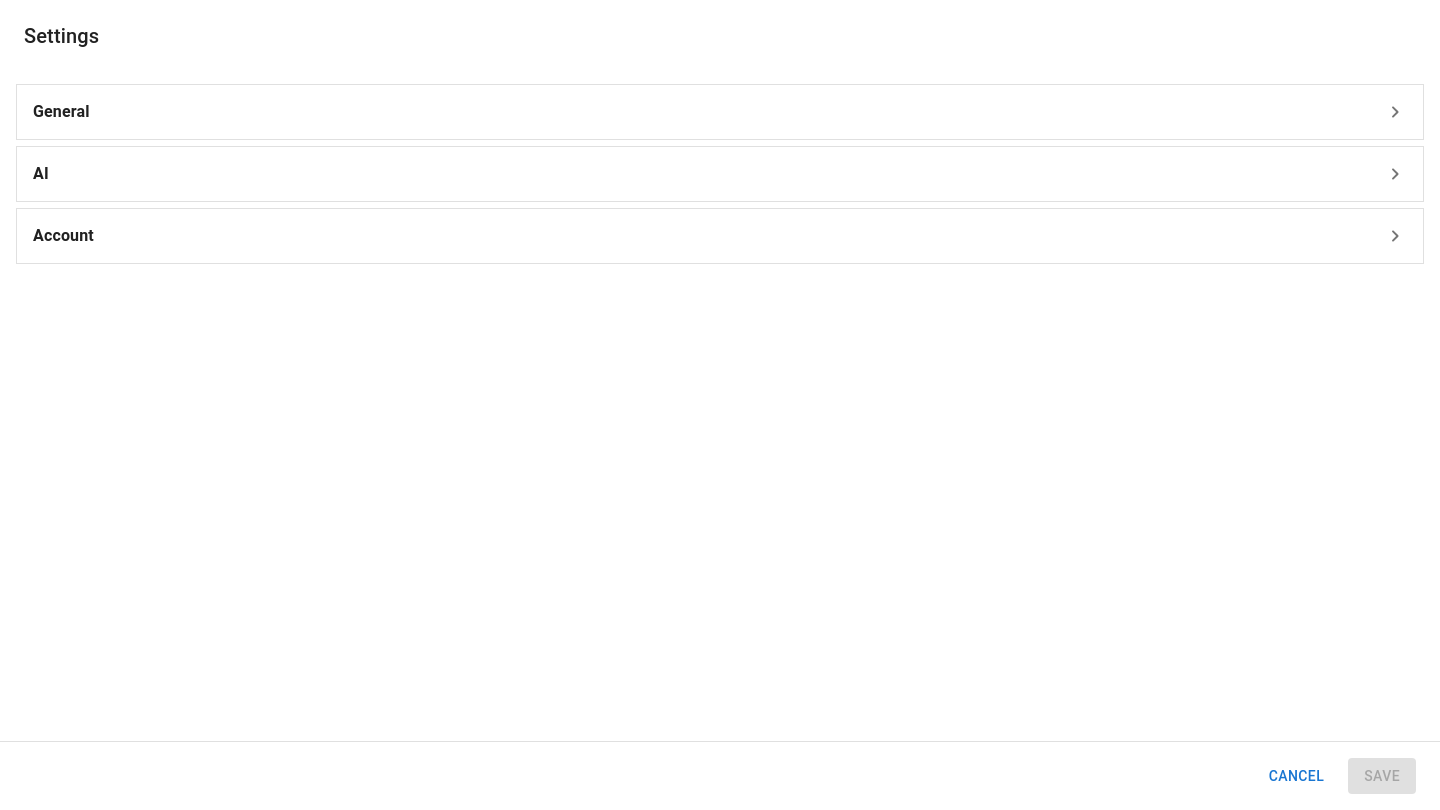
Scenario: SettingsDialog › renders mobile settings as a fullscreen two-level flow
Expected: the button "General" is shown, [16,84,1424,140]
Click the button "Account" at point(63, 236), box [16,208,1424,264]
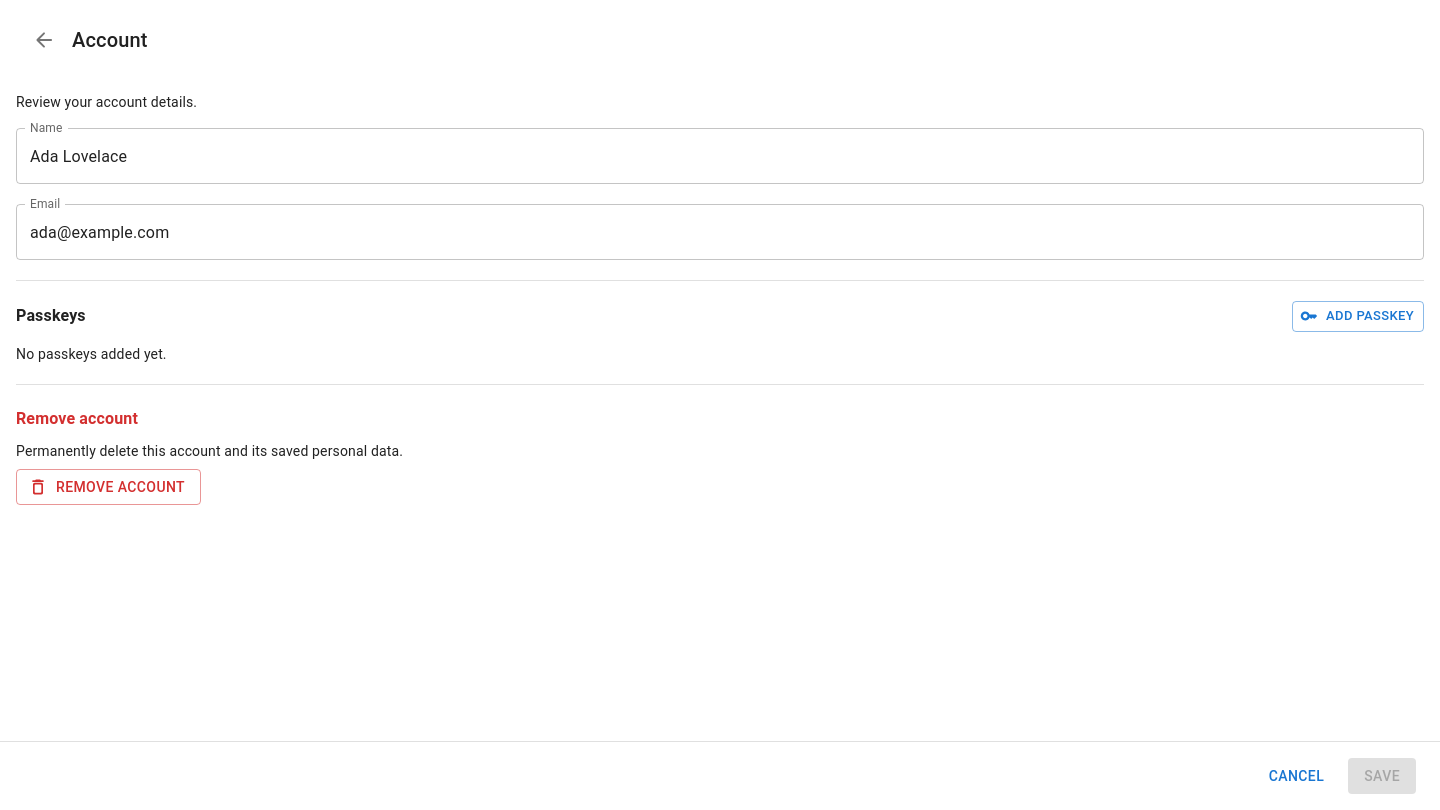
Expected: the button named "Back" is shown, [24,20,64,60]
Expected: the field labelled "Name" holds "Ada Lovelace", [16,128,1424,184]
Expected: the button "Remove account" is shown, [16,469,201,505]
